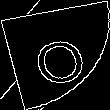O_N: (24, 25, 86, 85)
